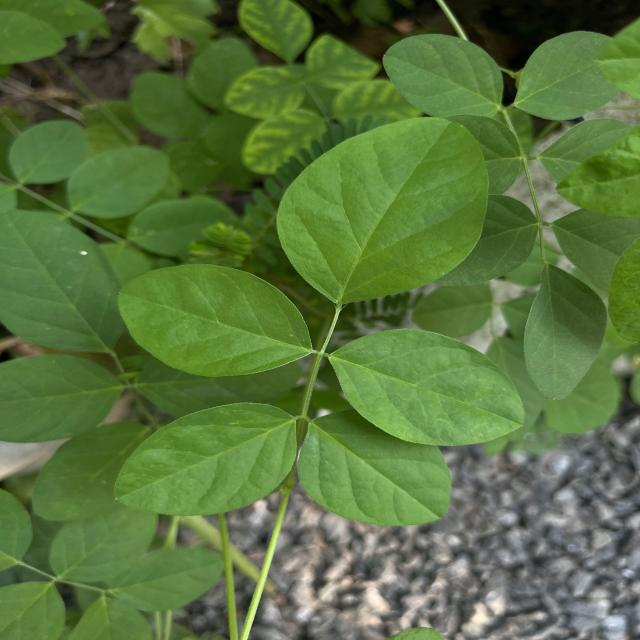Clitoria ternatea: (274, 115, 490, 308), (328, 328, 528, 448), (115, 261, 314, 379), (113, 400, 299, 518), (296, 408, 454, 528)
